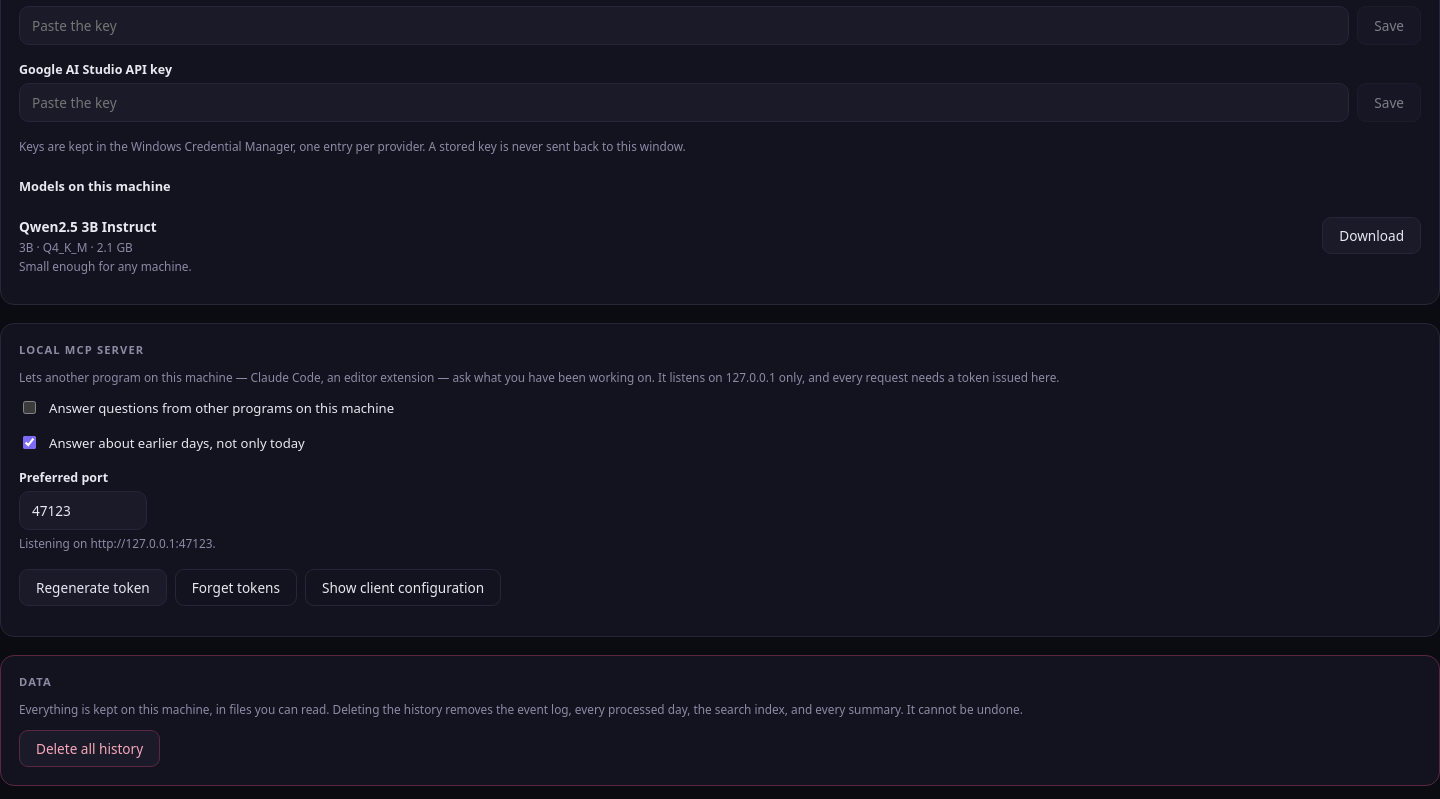
Settings — the MCP server › offers a client snippet once the server is up
This screenshot has width=1440, height=799.
(page scrolled)
Click the button "Show client configuration" at coordinates (403, 587), box [305, 569, 501, 606]
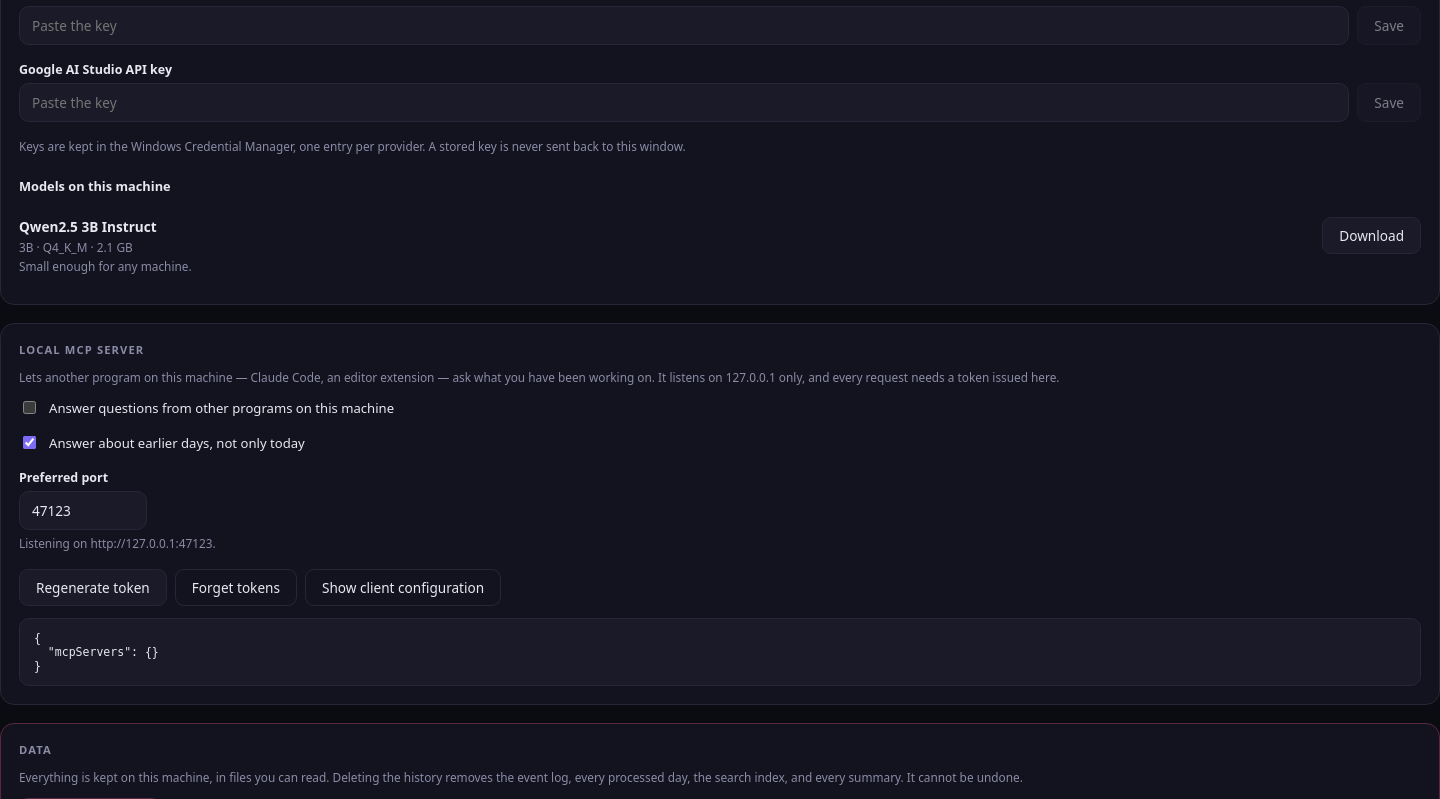
expect the text "{ \"mcpServers\": {} }" is shown: met, box [19, 618, 1421, 686]
